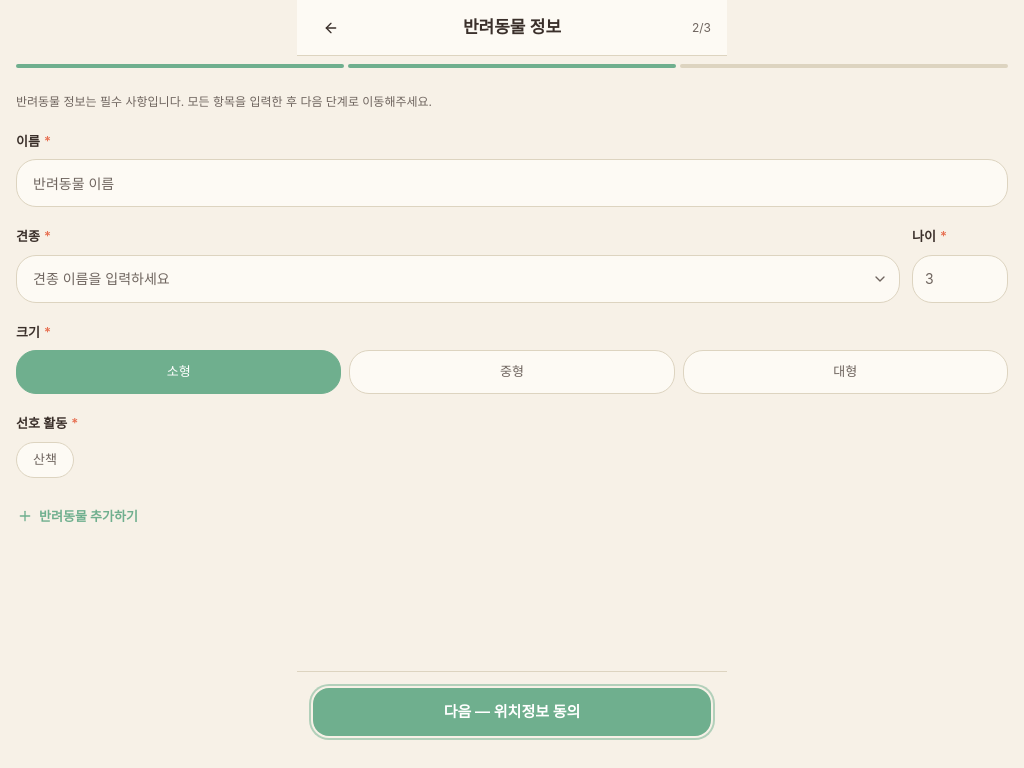
it: SignupScreen › removes the selected pet and selects the adjacent pet
The width and height of the screenshot is (1024, 768).
Earlier steps of the test are not shown.
Click the button "반려동물 추가하기" at (78, 516), box [16, 498, 139, 535]
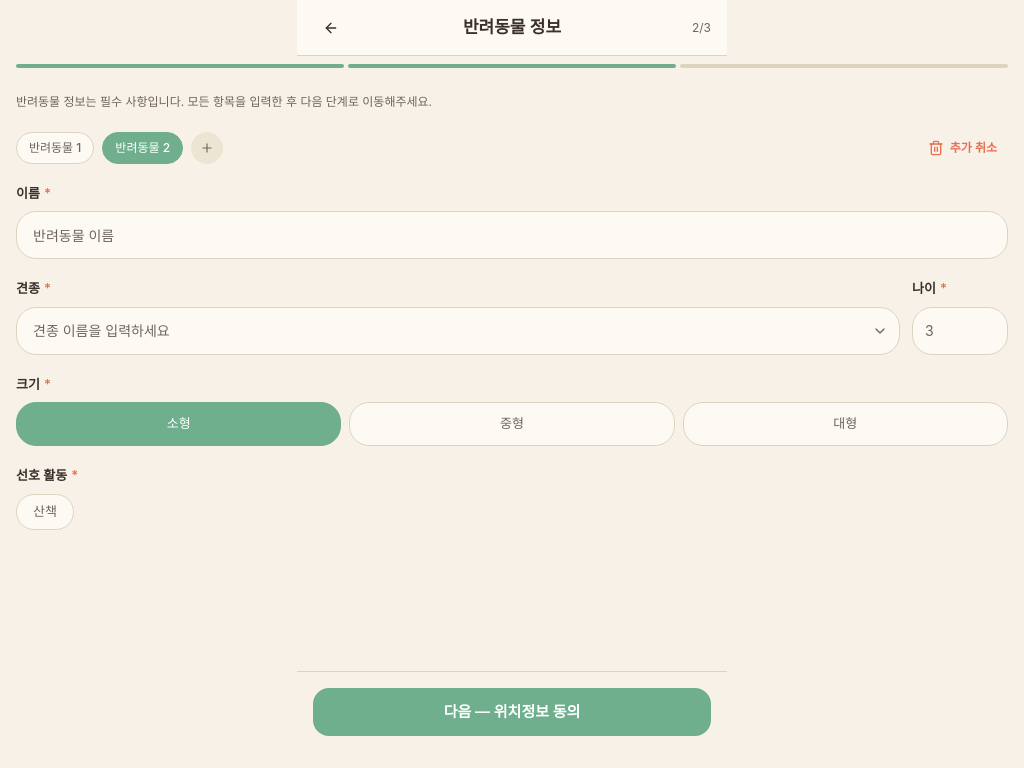
Type "두리" into the field with placeholder "반려동물 이름" at (512, 235), box [16, 211, 1008, 259]
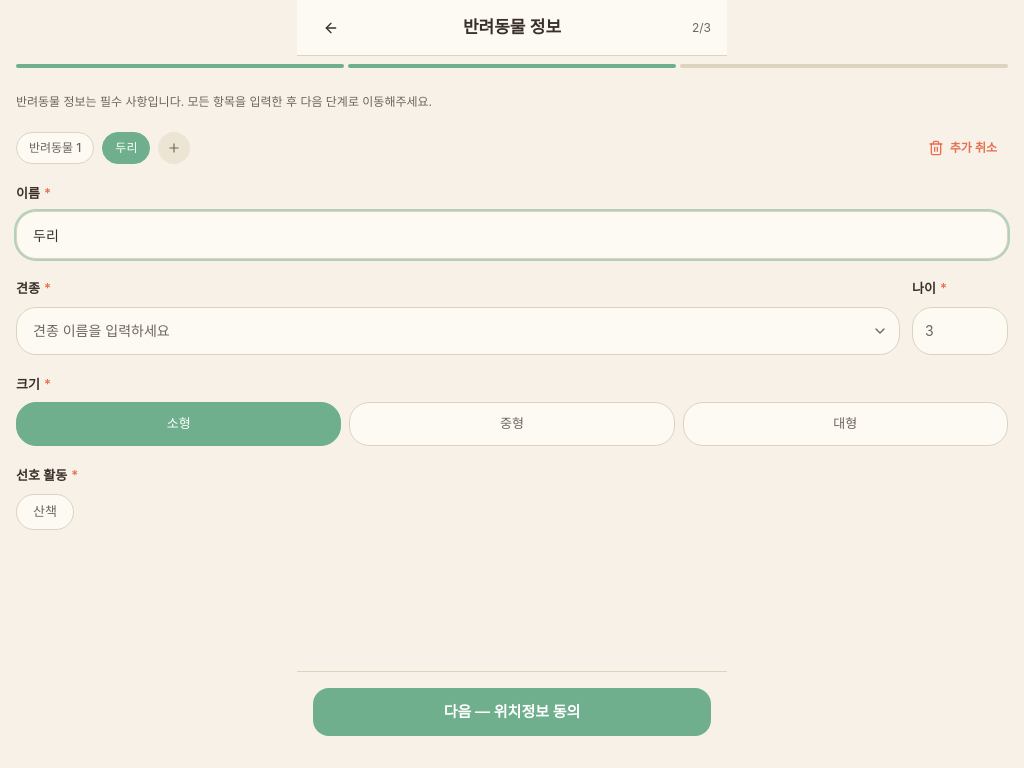
Click the button named "반려동물 추가" at (174, 148), box [158, 132, 190, 164]
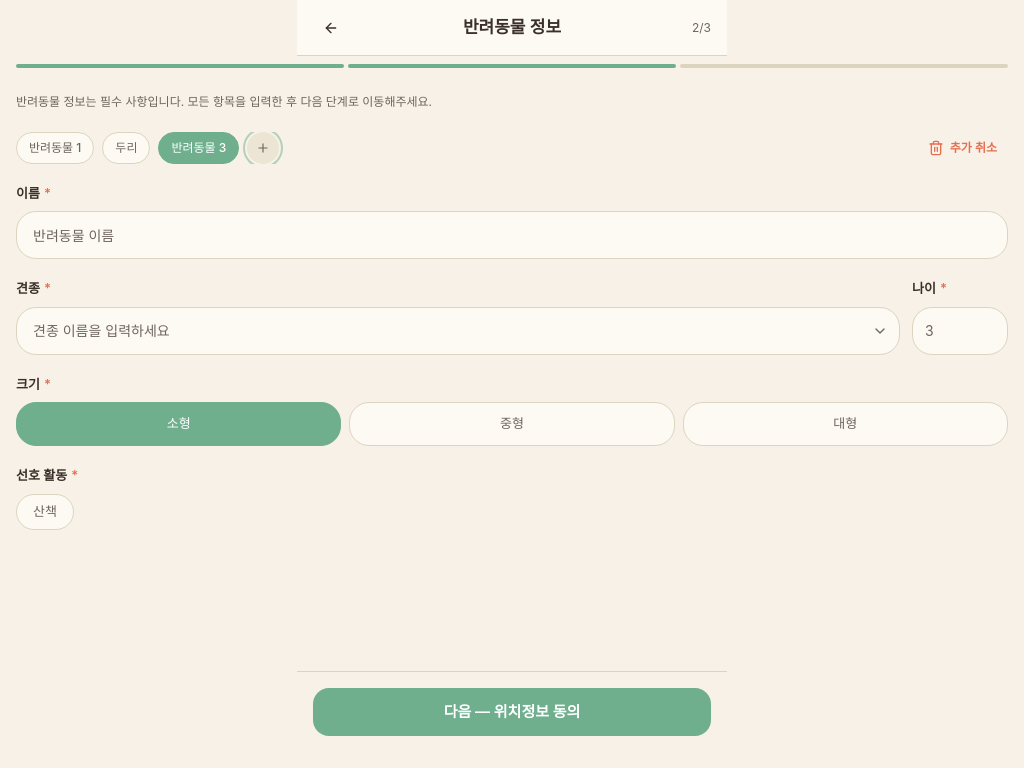
Type "몽이" into the field with placeholder "반려동물 이름" at (512, 235), box [16, 211, 1008, 259]
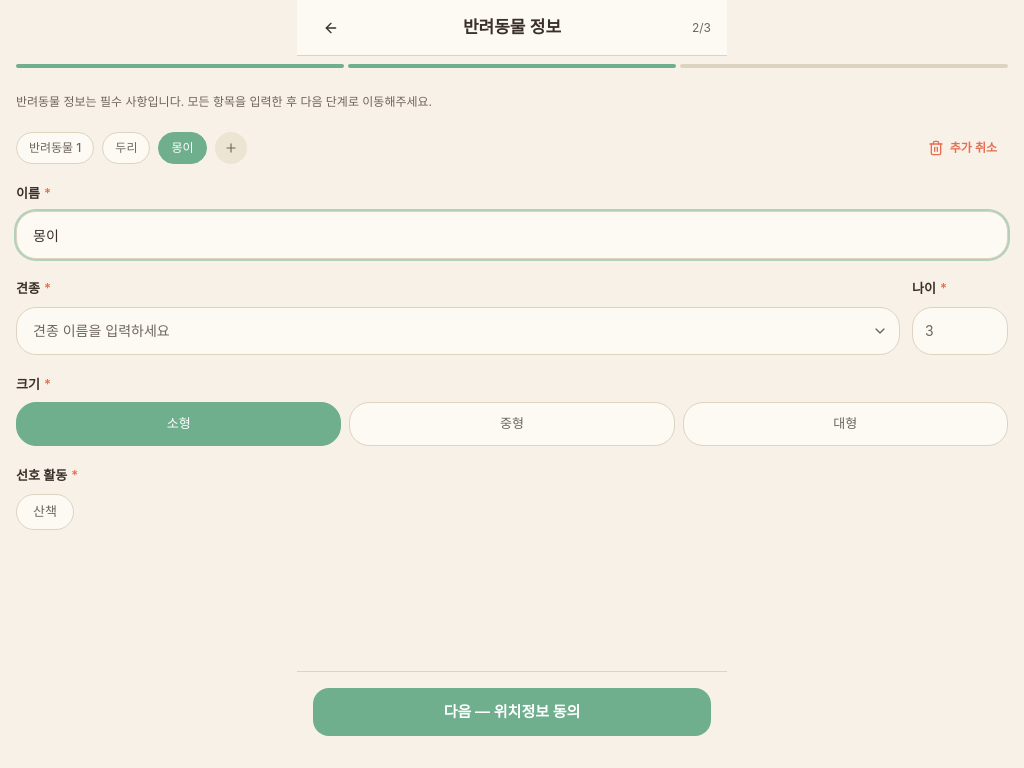
Click the button "두리" at (126, 148), box [102, 132, 150, 164]
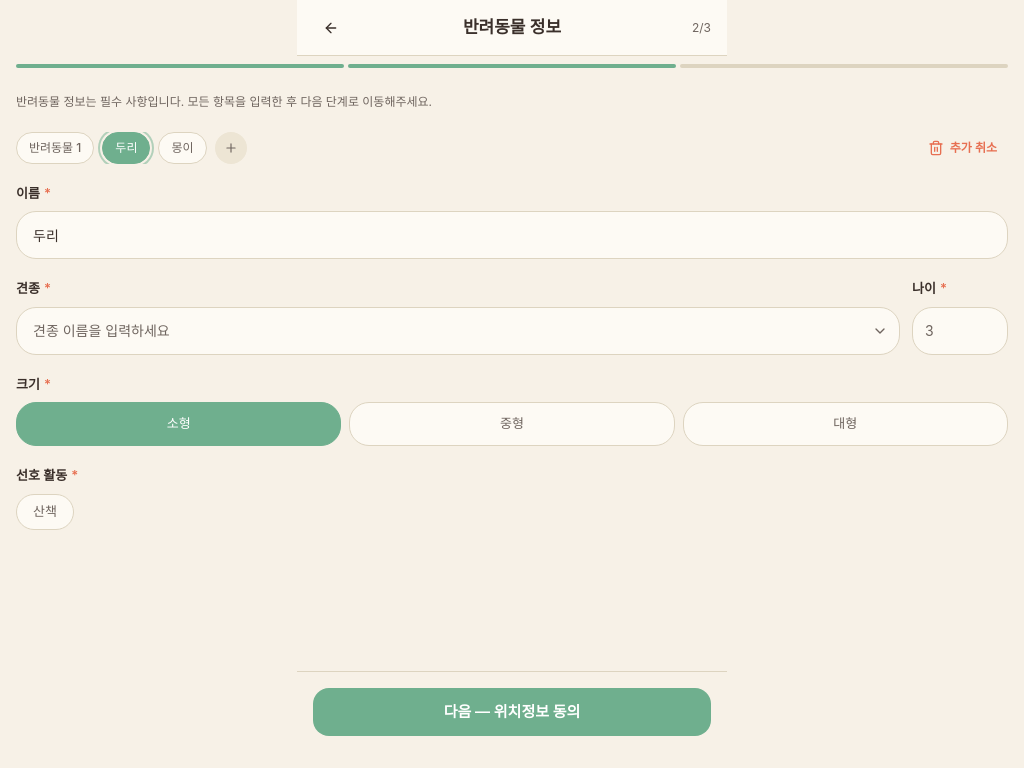
Click the button with aria-label "두리 추가 취소" at (962, 148), box [917, 132, 1008, 164]
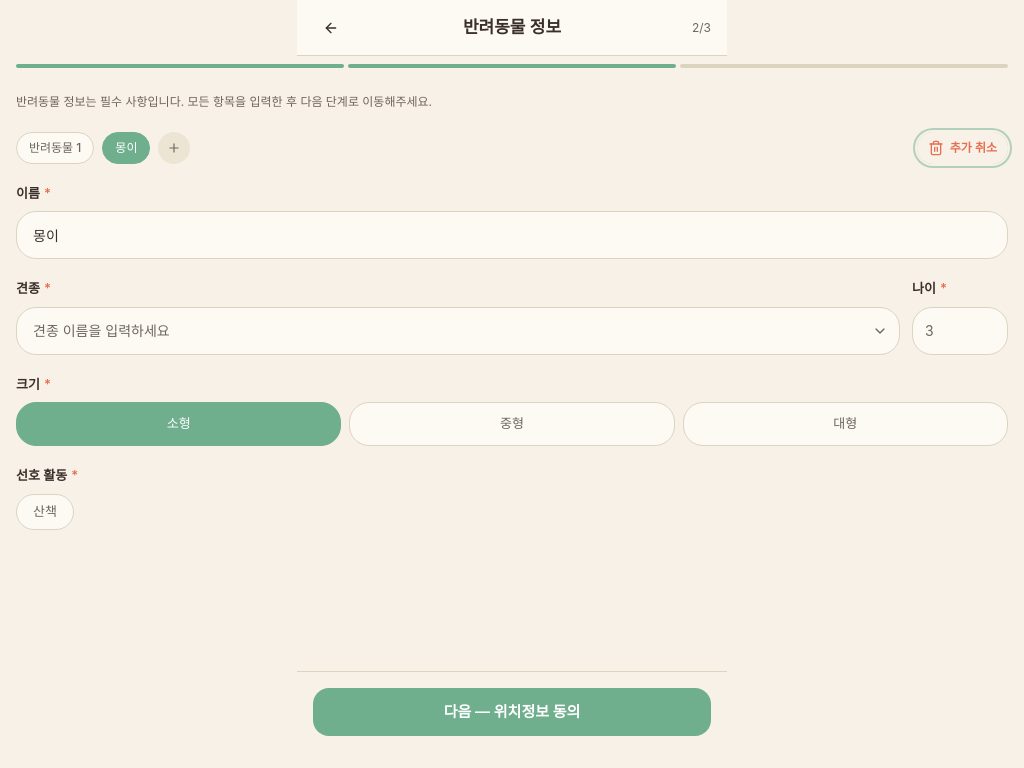
Check: the button "두리" is gone
